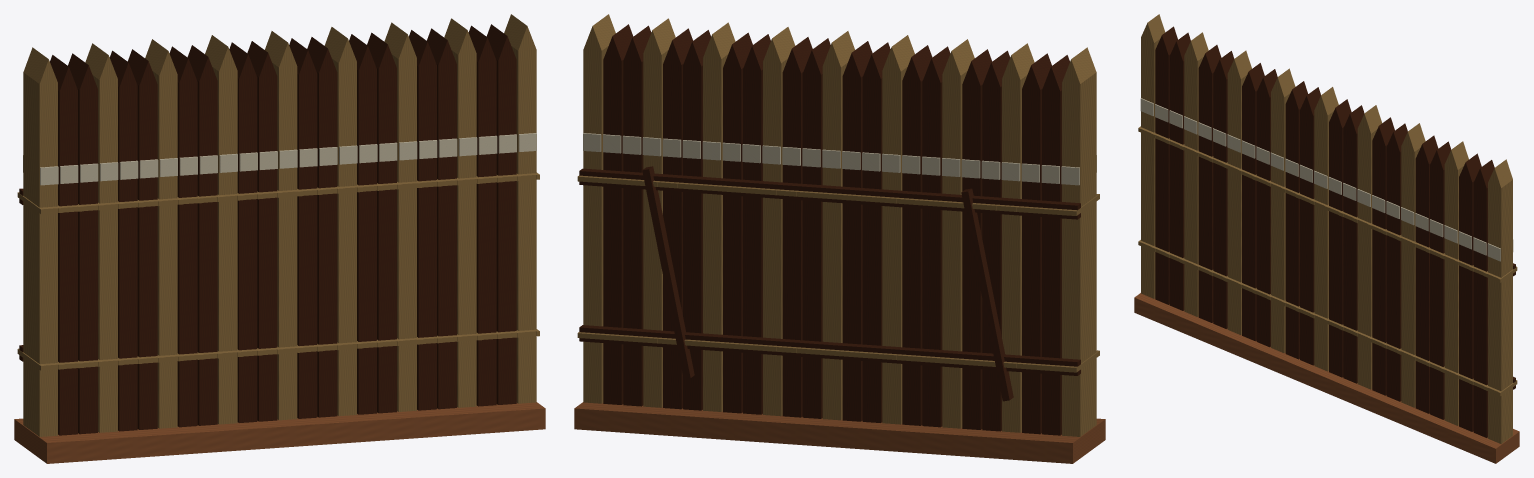
Rendered from Berber_Palisade_Age2_slope_down_6m.fbx.
The picture shows the model from 3 angles, left to right: view 1: azimuth 30°, elevation 25°; view 2: azimuth 150°, elevation 25°; view 3: azimuth 330°, elevation 25°; orthographic projection. The views are drawn at different scales.
Visible parts, largest first — view 1: palm_split_post.057, palm_split_post.062, palm_split_post.055, palm_split_post.059, palm_split_post.052, palm_split_post.064, palm_split_post.061, earth_seat.008, palm_split_post.058, neutral_owner_band.008, front_lashing.008, lashing_side.008; view 2: palm_split_post.057, palm_split_post.062, palm_split_post.052, palm_split_post.055, palm_split_post.059, earth_seat.008, palm_split_post.061, palm_split_post.058, palm_split_post.064, continuous_rear_tie.008, neutral_owner_band.008, back_lashing.008 (+2 smaller); view 3: palm_split_post.059, palm_split_post.057, palm_split_post.055, palm_split_post.062, palm_split_post.052, earth_seat.008, palm_split_post.058, palm_split_post.061, palm_split_post.064, neutral_owner_band.008, front_lashing.008, lashing_side.008.
Boxes of the visible parts, x1,y1,x2,y2 form: palm_split_post.057: [68, 25, 496, 434]; palm_split_post.062: [169, 24, 516, 427]; palm_split_post.055: [50, 32, 396, 435]; palm_split_post.059: [109, 28, 456, 431]; palm_split_post.052: [23, 14, 536, 436]; palm_split_post.064: [205, 18, 476, 424]; palm_split_post.061: [145, 22, 416, 428]; earth_seat.008: [14, 402, 545, 463]; palm_split_post.058: [85, 27, 356, 432]; neutral_owner_band.008: [23, 133, 536, 185]; front_lashing.008: [40, 173, 538, 370]; lashing_side.008: [17, 172, 539, 370]; palm_split_post.057: [623, 25, 1051, 434]; palm_split_post.062: [603, 24, 950, 427]; palm_split_post.052: [583, 14, 1096, 436]; palm_split_post.055: [723, 32, 1069, 435]; palm_split_post.059: [663, 28, 1010, 431]; earth_seat.008: [574, 402, 1105, 463]; palm_split_post.061: [703, 22, 974, 428]; palm_split_post.058: [763, 27, 1034, 432]; palm_split_post.064: [643, 18, 914, 424]; continuous_rear_tie.008: [579, 168, 1080, 375]; neutral_owner_band.008: [583, 133, 1096, 185]; back_lashing.008: [578, 175, 1076, 372]; palm_split_post.059: [1198, 45, 1451, 419]; palm_split_post.057: [1169, 32, 1481, 431]; palm_split_post.055: [1155, 26, 1407, 401]; palm_split_post.062: [1242, 63, 1494, 437]; palm_split_post.052: [1141, 14, 1512, 443]; earth_seat.008: [1134, 293, 1519, 463]; palm_split_post.058: [1184, 32, 1381, 389]; palm_split_post.061: [1227, 50, 1425, 407]; palm_split_post.064: [1271, 68, 1468, 425]; neutral_owner_band.008: [1140, 98, 1513, 261]; front_lashing.008: [1139, 127, 1501, 394]; lashing_side.008: [1138, 126, 1517, 396].
Size of the model in its own units: 601 by 556 by 68.29.
Materials: 4 (4 with a texture image).
